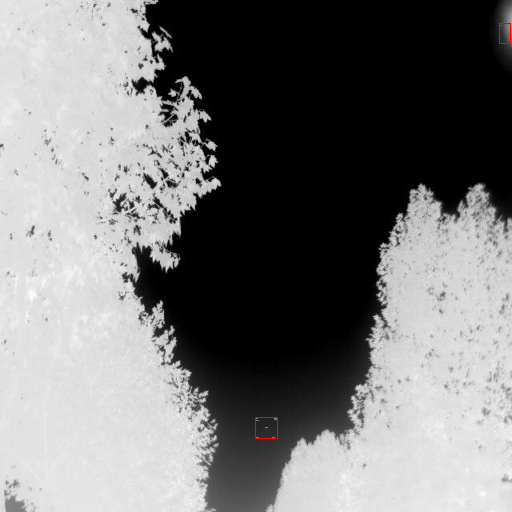Target: (255, 417, 277, 438), (499, 23, 510, 43)
